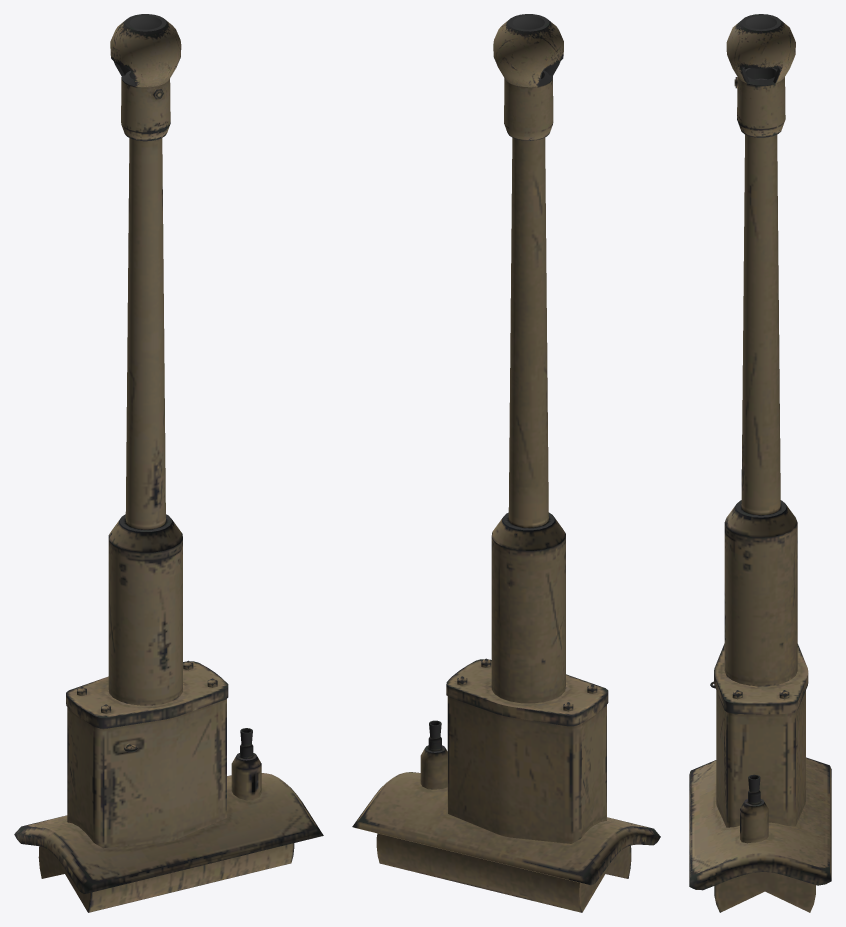
Rendered from Gun_01.glb.
3 views of the same model, side by side, from view 1: azimuth 30°, elevation 25°; view 2: azimuth 150°, elevation 25°; view 3: azimuth 270°, elevation 25° (orthographic). The views are drawn at different scales.
Parts seen in each view (by area): view 1: set_0_group_0; view 2: set_0_group_0; view 3: set_0_group_0.
Part boxes in pixels (x1,y1,x2,y2): set_0_group_0: (14, 14, 323, 912); set_0_group_0: (352, 14, 660, 912); set_0_group_0: (689, 14, 831, 912).
Bounding box in the file's own units: 0.8166 × 2.82 × 0.4368.
1 material, 1 textured.
